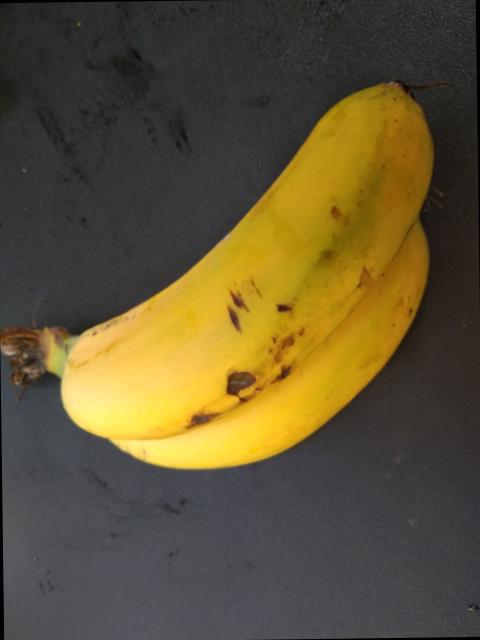ripe: (33, 71, 431, 432)
